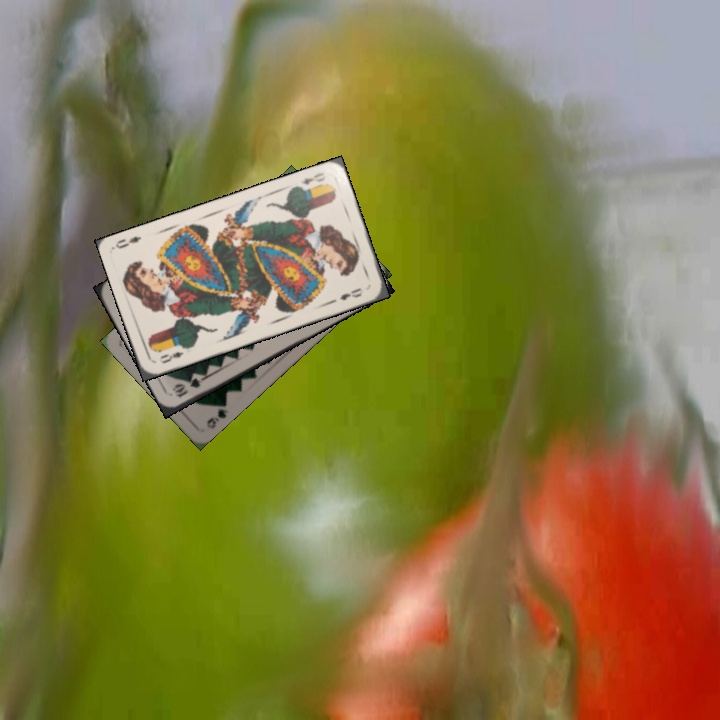EO: (156, 342, 191, 366), (297, 168, 328, 187)
G10: (169, 370, 207, 400)
G9: (202, 396, 231, 431)
